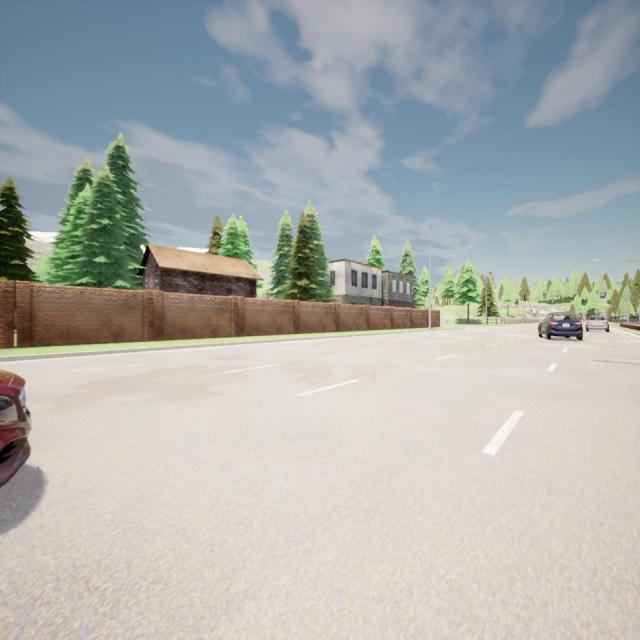Vehicle: (0, 368, 32, 496), (538, 312, 582, 340), (586, 315, 610, 333)
